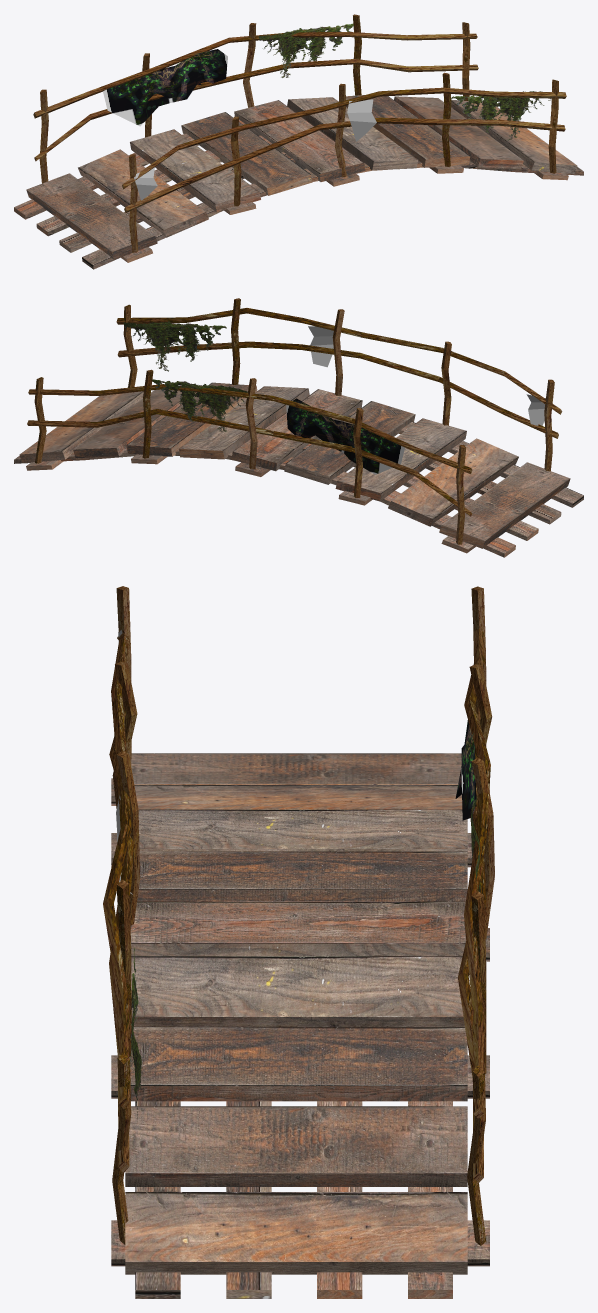
File: WoodenBridge.fbx
The picture shows the model from 3 angles, top to bottom: view 1: azimuth 30°, elevation 25°; view 2: azimuth 150°, elevation 25°; view 3: azimuth 270°, elevation 25°; orthographic projection. The views are drawn at different scales.
Visible parts, largest first — view 1: Cube.048; view 2: Cube.048; view 3: Cube.048.
Part boxes in pixels (x1,y1,x2,y2): Cube.048: (14, 14, 583, 269); Cube.048: (14, 298, 583, 557); Cube.048: (103, 586, 494, 1298).
Bounding box in the file's own units: 3322 × 990 × 1150.
